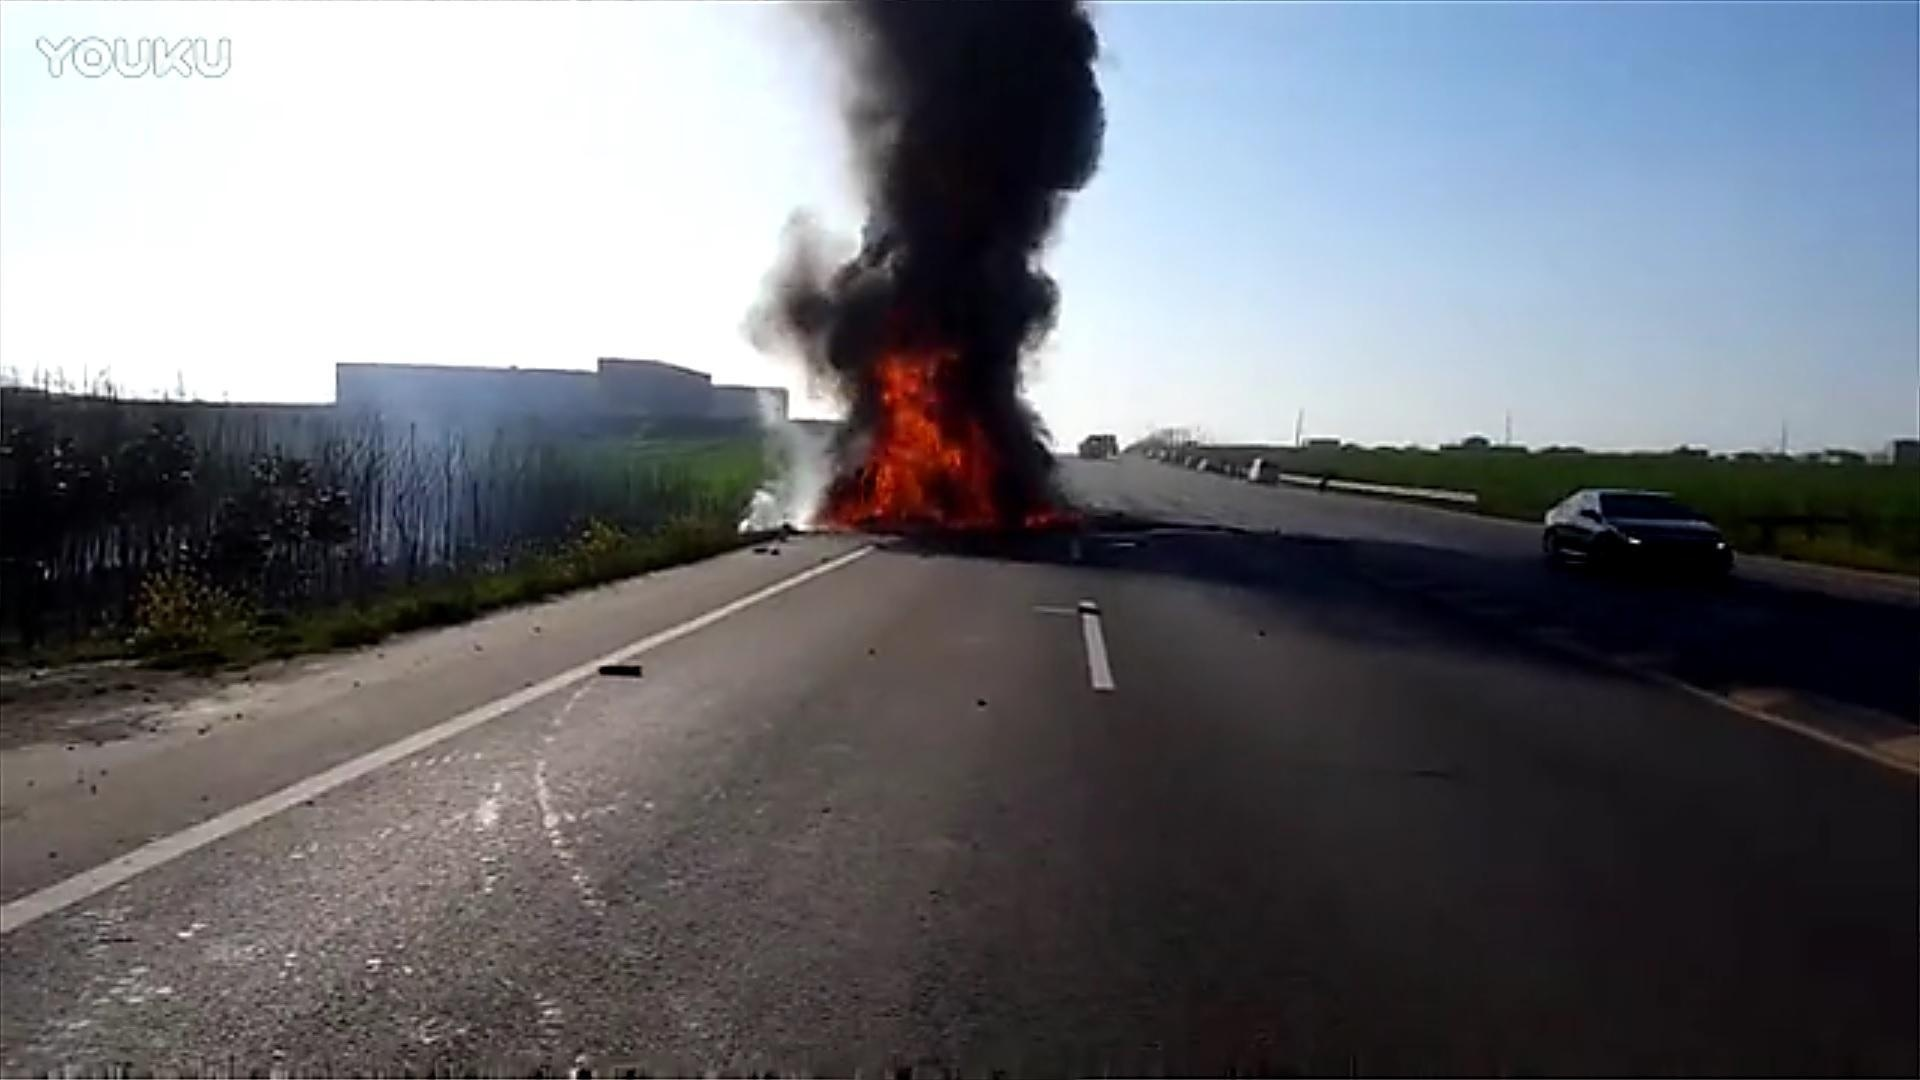fire: (825, 360, 1073, 535)
